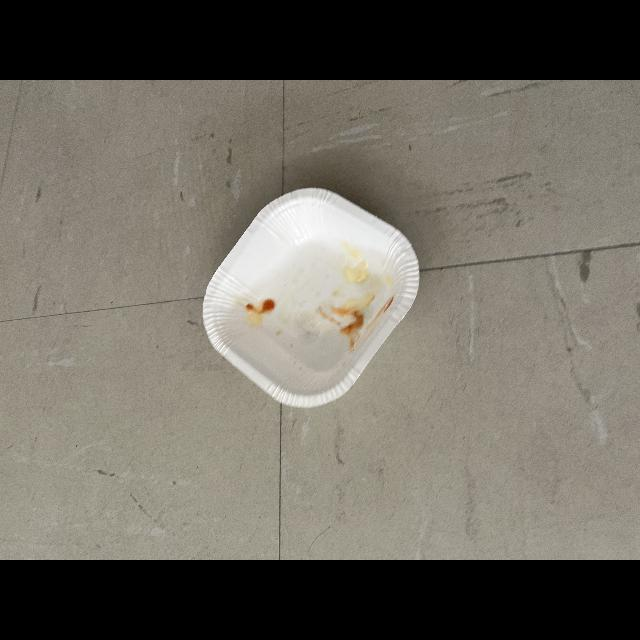cardboard_bowl: (189, 171, 435, 413)
